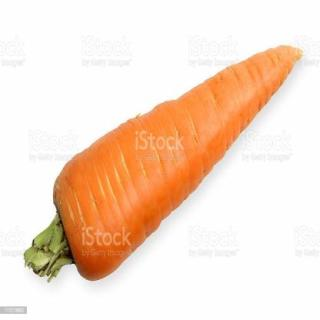Wortel: (53, 46, 304, 283)
